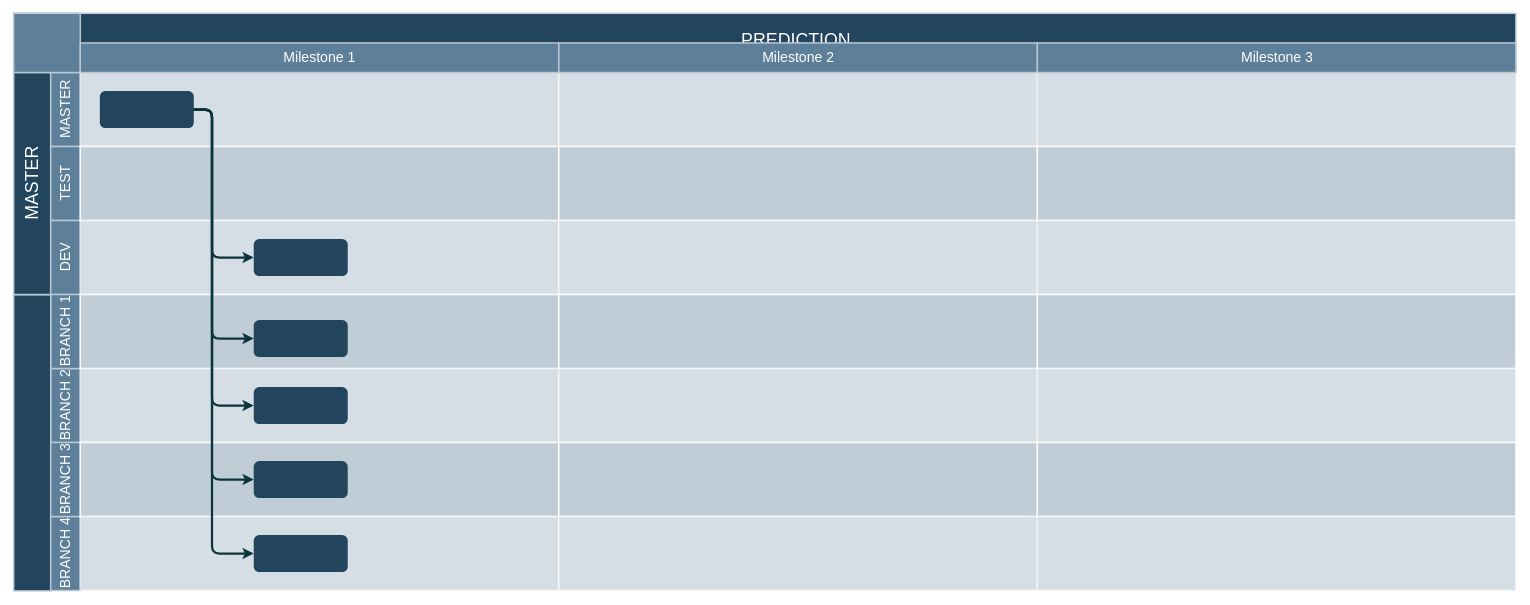
Image size: 1530x605. Some labels were removed from this diagram. The centre of each missing label's shape, as x and y in pixels:
"BRANCHS" goes at [32,442].
"v 1.0" goes at [47,42].
"V0.1" goes at [146,109].
